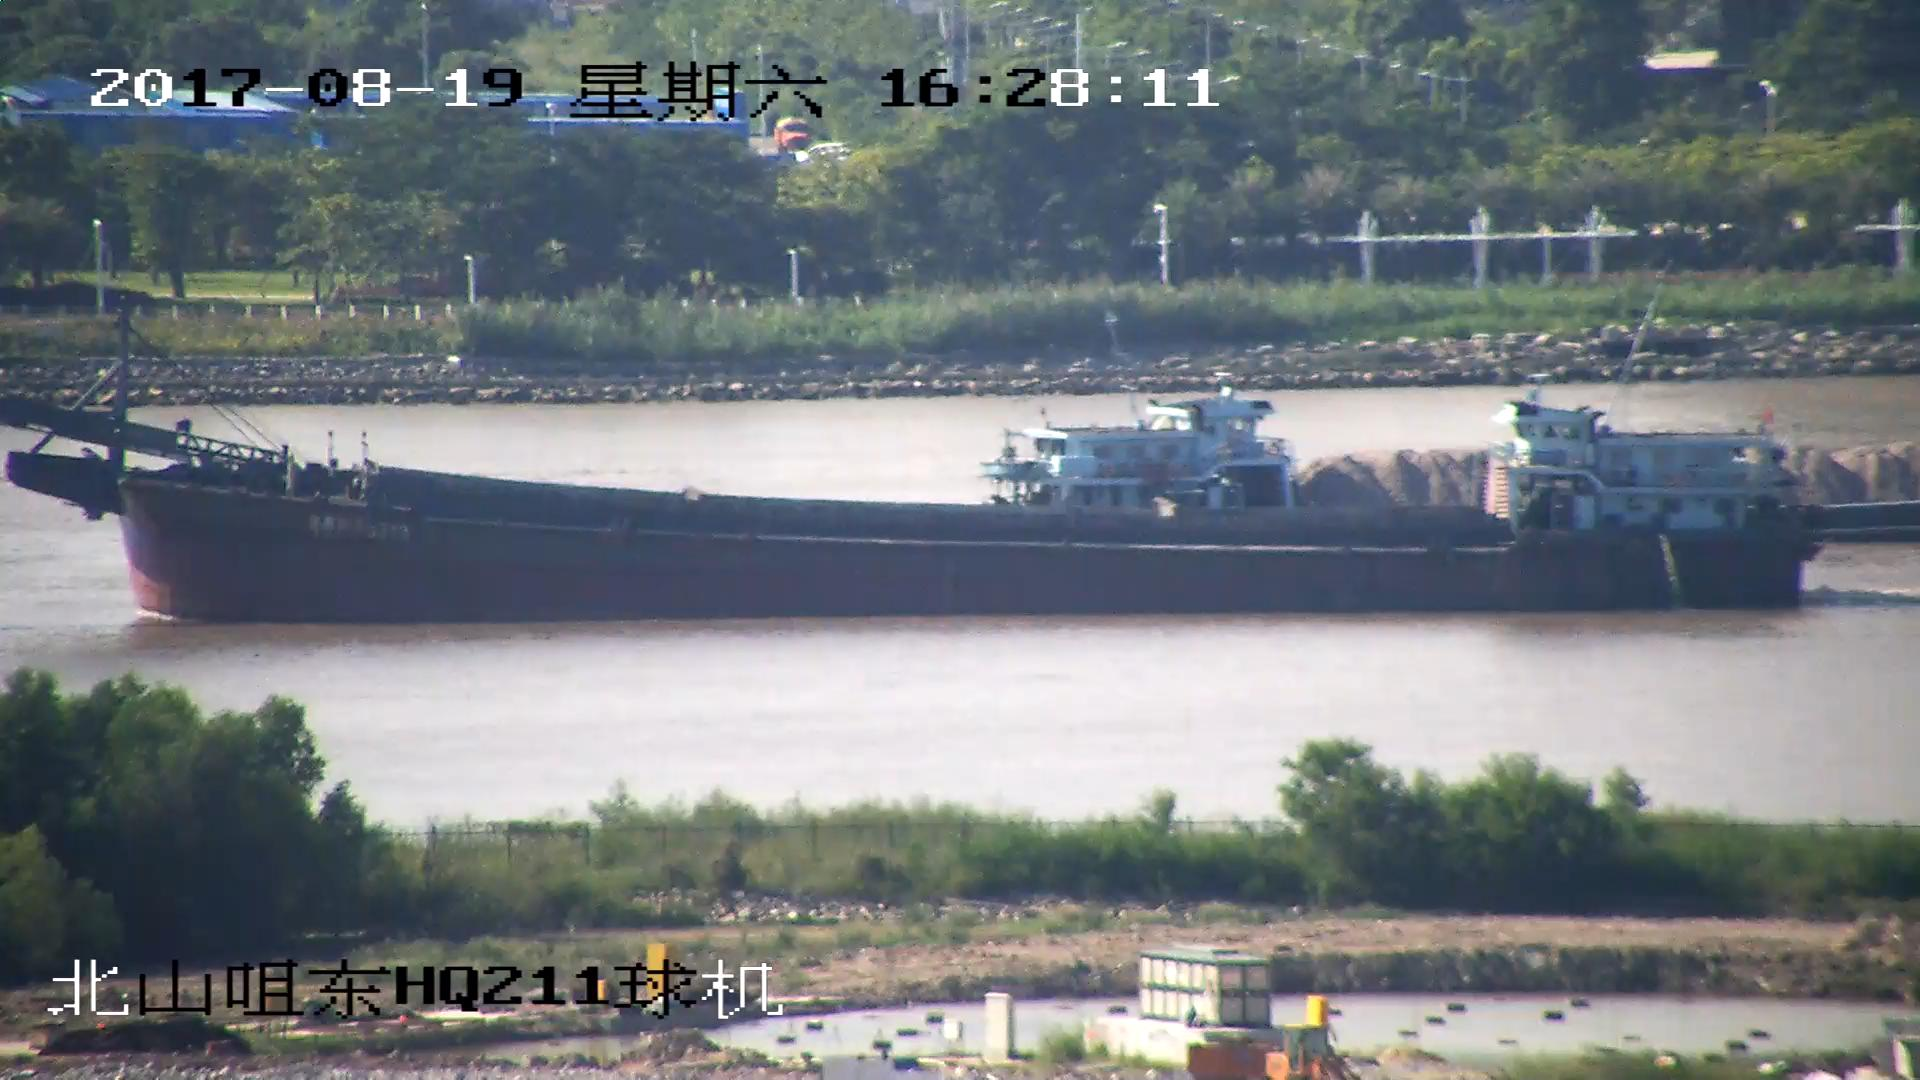bulk cargo carrier: (1, 313, 1812, 615)
ore carrier: (993, 403, 1920, 560)
